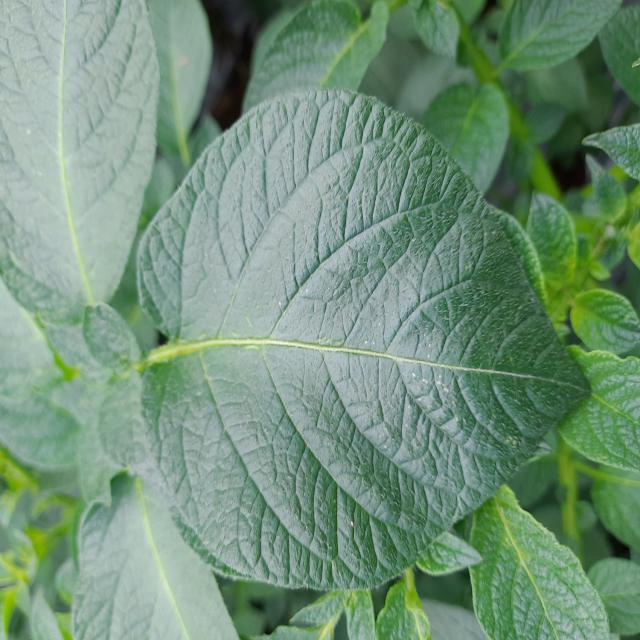healthy: (132, 86, 591, 594)
